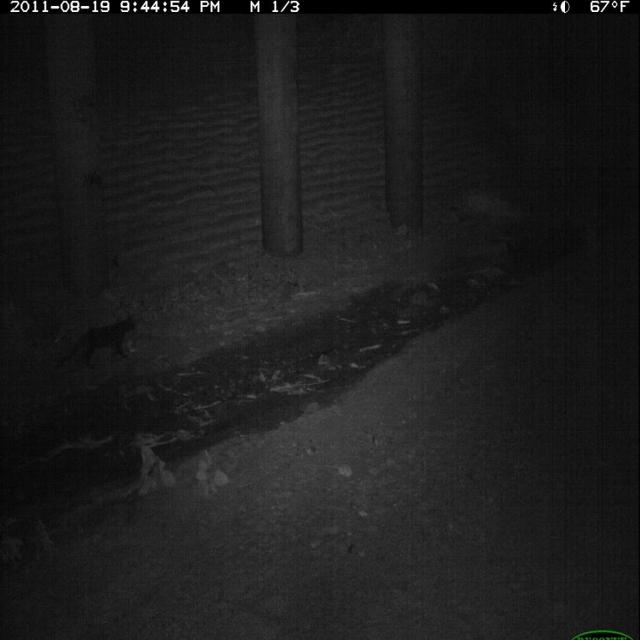cat: (60, 311, 141, 373)
